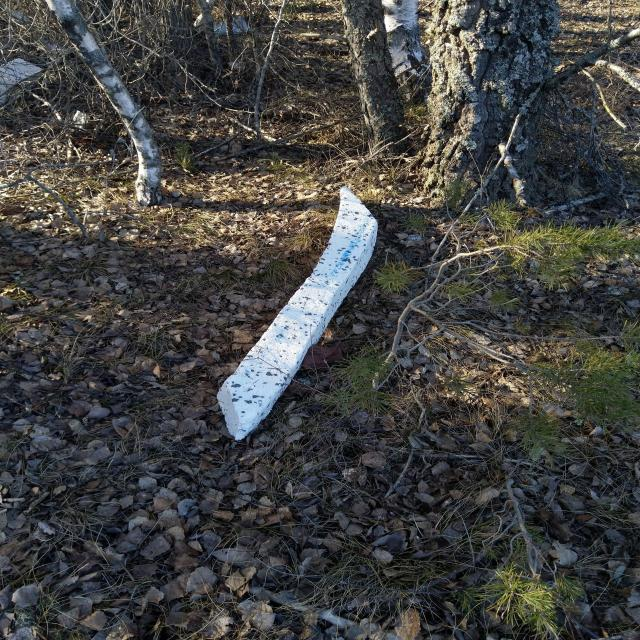Styrofoam piece: (217, 186, 378, 440)
Unlabeled litter: (0, 58, 42, 107)
